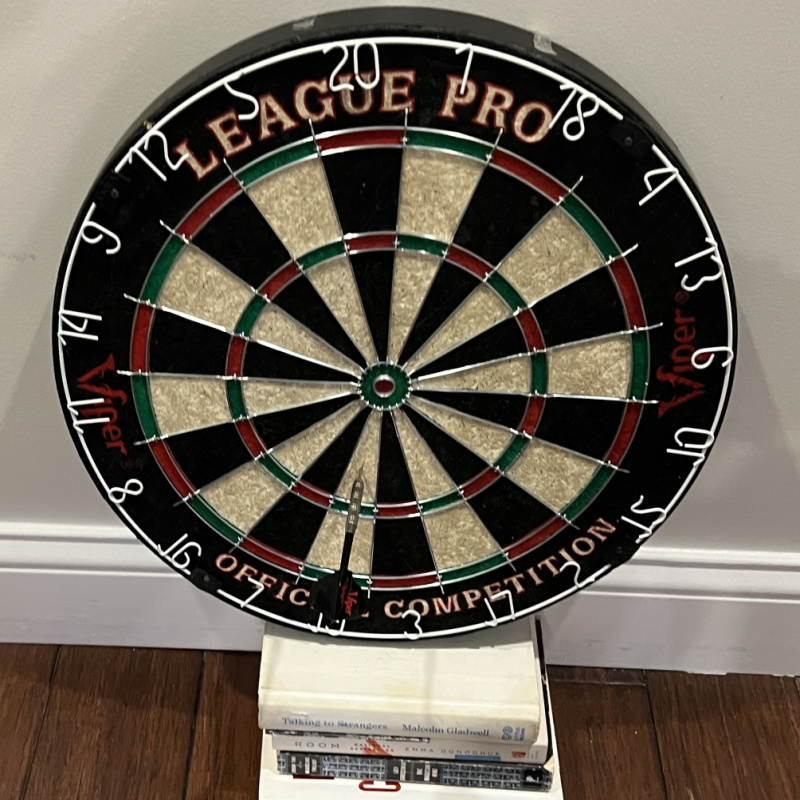dart: (349, 464, 369, 496)
eleven: (65, 395, 112, 433)
six: (691, 343, 736, 370)
three: (398, 607, 425, 642)
twenty: (324, 40, 379, 91)
